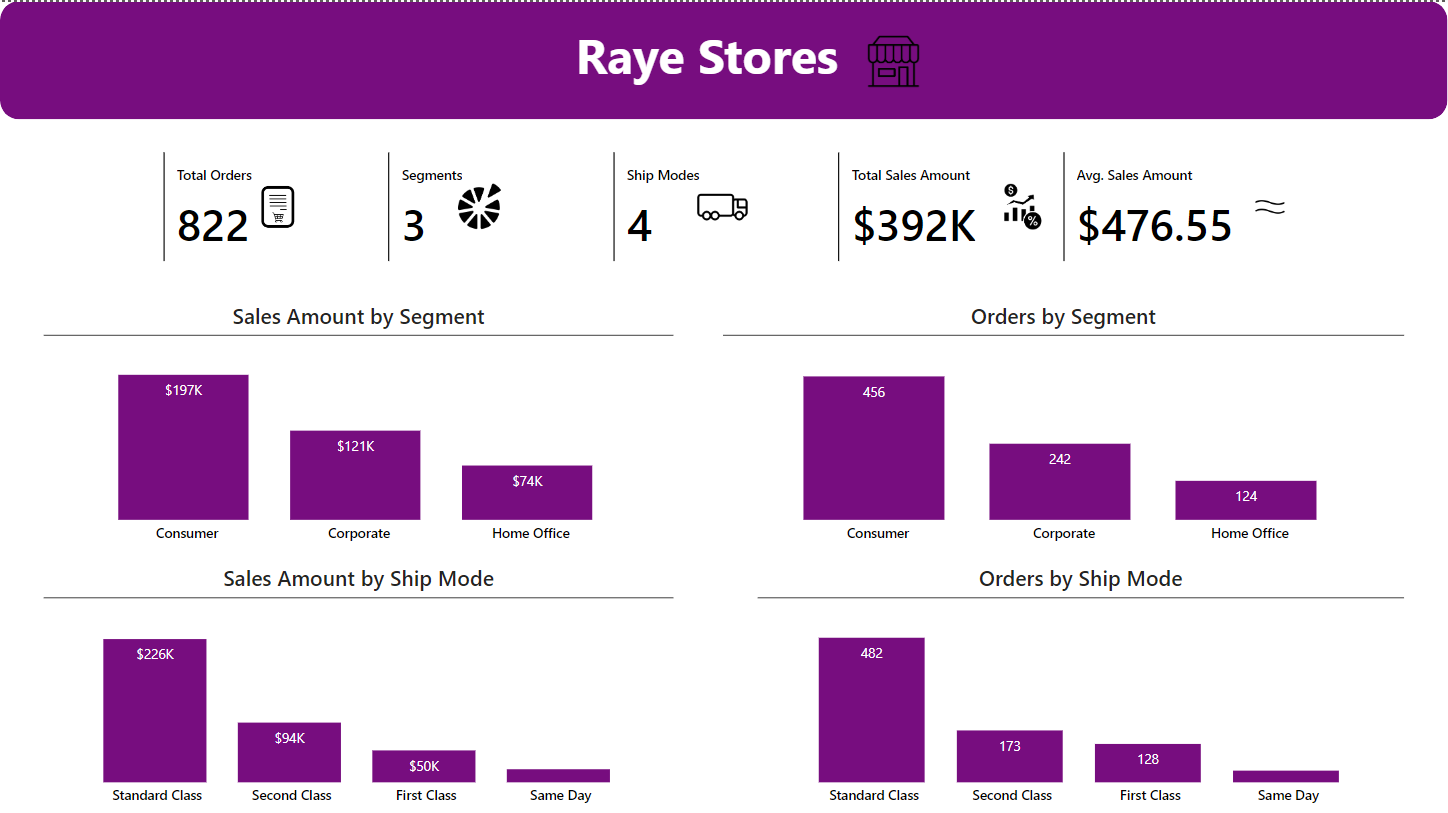

The page's visual inventory and layout, read from the dashboard file:
{"tool":"powerbi","page":{"name":"Page 1","canvas":[1280,720],"ordinal":0},"visuals":[{"type":"shape","box":[0,0,1280.4,104.8],"z":0},{"type":"textbox","box":[504.2,13.3,272,78.3],"z":2},{"type":"image","box":[744.3,21.2,91.5,63.7],"z":3},{"type":"cardVisual","fields":{"Data":["Raye Store Cleaned Data.Total Orders","Raye Store Cleaned Data.Segments","Raye Store Cleaned Data.Ship Modes","Raye Store Cleaned Data.Total Sales Amount","Raye Store Cleaned Data.Avg. Sales Amount"]},"box":[139.3,128.7,1000.4,106.1],"z":4},{"type":"image","box":[197.7,136.7,94.2,90.2],"z":5},{"type":"image","box":[392.7,153.9,62.4,54.4],"z":6},{"type":"image","box":[607.7,153.9,62.4,54.4],"z":7},{"type":"image","box":[1092,153.9,62.4,54.4],"z":8},{"type":"image","box":[866.4,153.9,77,54.4],"z":9},{"type":"clusteredColumnChart","title":"Sales Amount by Segment","fields":{"Category":["Raye Store Cleaned Data.Segment"],"Y":["Raye Store Cleaned Data.Total Sales Amount"]},"box":[38.5,265.4,557.3,222.9],"z":10},{"type":"clusteredColumnChart","title":"Sales Amount by Ship Mode","fields":{"Category":["Raye Store Cleaned Data.Ship_Mode"],"Y":["Raye Store Cleaned Data.Total Sales Amount"]},"box":[38.5,497.6,557.3,222.9],"z":11},{"type":"clusteredColumnChart","title":"Orders by Segment","fields":{"Category":["Raye Store Cleaned Data.Segment"],"Y":["Raye Store Cleaned Data.Total Orders"]},"box":[639.5,265.4,602.4,222.9],"z":12},{"type":"clusteredColumnChart","title":"Orders by Ship Mode","fields":{"Category":["Raye Store Cleaned Data.Ship_Mode"],"Y":["Raye Store Cleaned Data.Total Orders"]},"box":[670,497.6,571.9,222.9],"z":13}]}

Visuals, with their boxes in screenshot pixels (x1, y1, x2, y2), scaled from the page's 1280x720 canvas onto the 1448x813 screenshot:
shape: crop(0, 0, 1447, 118)
textbox: crop(570, 15, 878, 103)
image: crop(842, 24, 945, 96)
cardVisual - Raye Store Cleaned Data.Total Orders x Raye Store Cleaned Data.Segments: crop(158, 145, 1289, 265)
image: crop(224, 154, 330, 256)
image: crop(444, 174, 515, 235)
image: crop(687, 174, 758, 235)
image: crop(1235, 174, 1306, 235)
image: crop(980, 174, 1067, 235)
"Sales Amount by Segment" clusteredColumnChart: crop(44, 300, 674, 551)
"Sales Amount by Ship Mode" clusteredColumnChart: crop(44, 562, 674, 812)
"Orders by Segment" clusteredColumnChart: crop(723, 300, 1405, 551)
"Orders by Ship Mode" clusteredColumnChart: crop(758, 562, 1405, 812)
